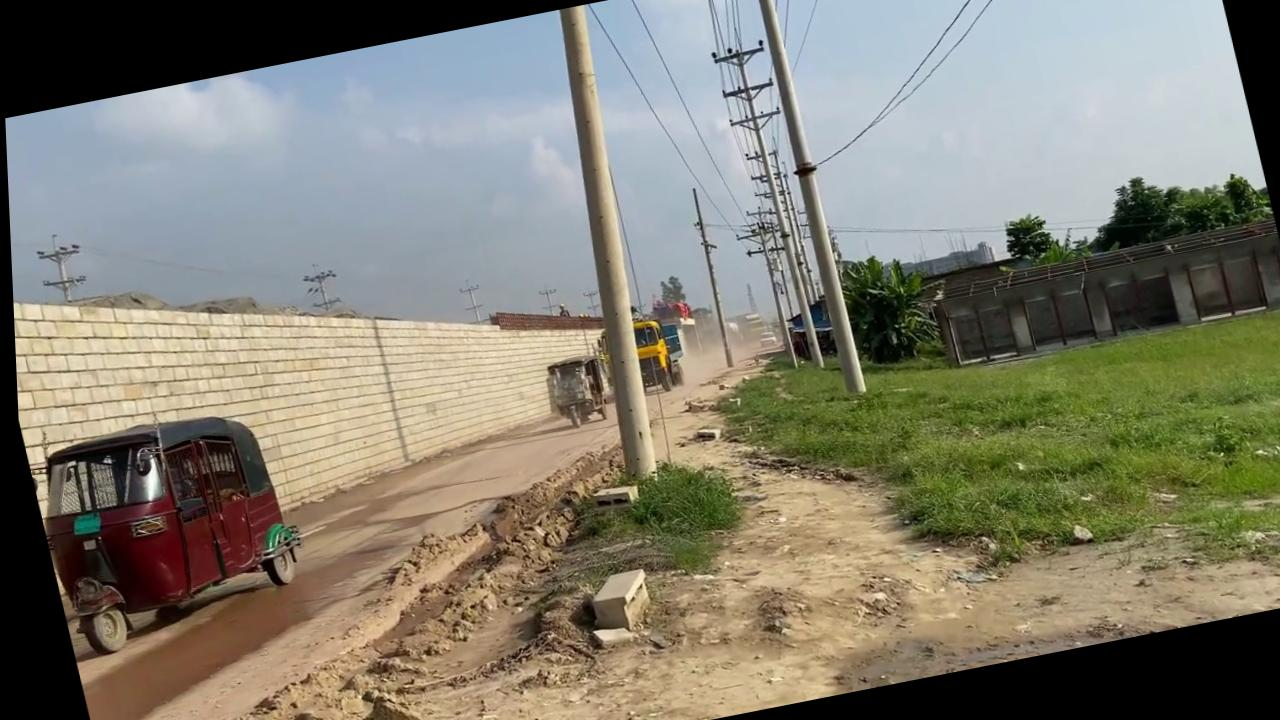Muddy road: (21, 238, 1280, 720)
Obstacle: (577, 565, 652, 637), (582, 480, 636, 513)
Pole: (514, 4, 693, 492), (745, 0, 865, 396), (682, 186, 735, 368)
Traffic-sign: (830, 244, 943, 369), (995, 209, 1055, 268), (653, 272, 684, 308)
Tree: (19, 397, 315, 660), (585, 312, 684, 402), (535, 351, 610, 430)
Upstairs: (6, 177, 669, 560)
